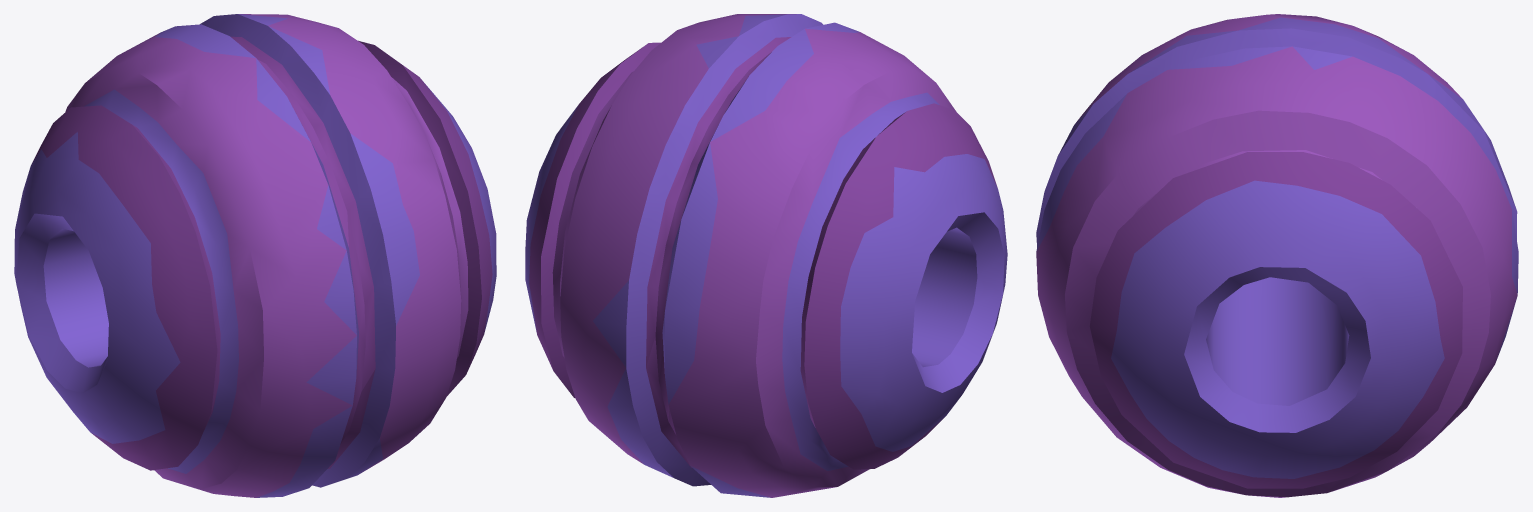
Rendered from Planet_8.gltf.
3 renders of one model, left to right at view 1: azimuth 30°, elevation 25°; view 2: azimuth 150°, elevation 25°; view 3: azimuth 270°, elevation 25°, orthographic.
Visible parts, largest first — view 1: Planet_8; view 2: Planet_8; view 3: Planet_8.
Boxes of the visible parts, x1,y1,x2,y2 form: Planet_8: (14,14,496,497); Planet_8: (525,14,1007,497); Planet_8: (1036,14,1518,497).
Size of the model in its own units: 3.45 by 3.75 by 3.75.
1 material, 1 textured.
